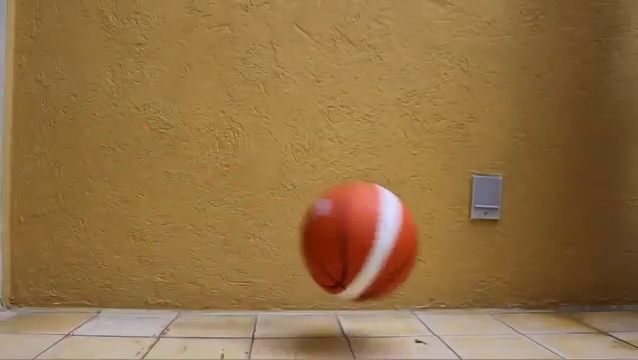ball: (300, 181, 419, 302)
